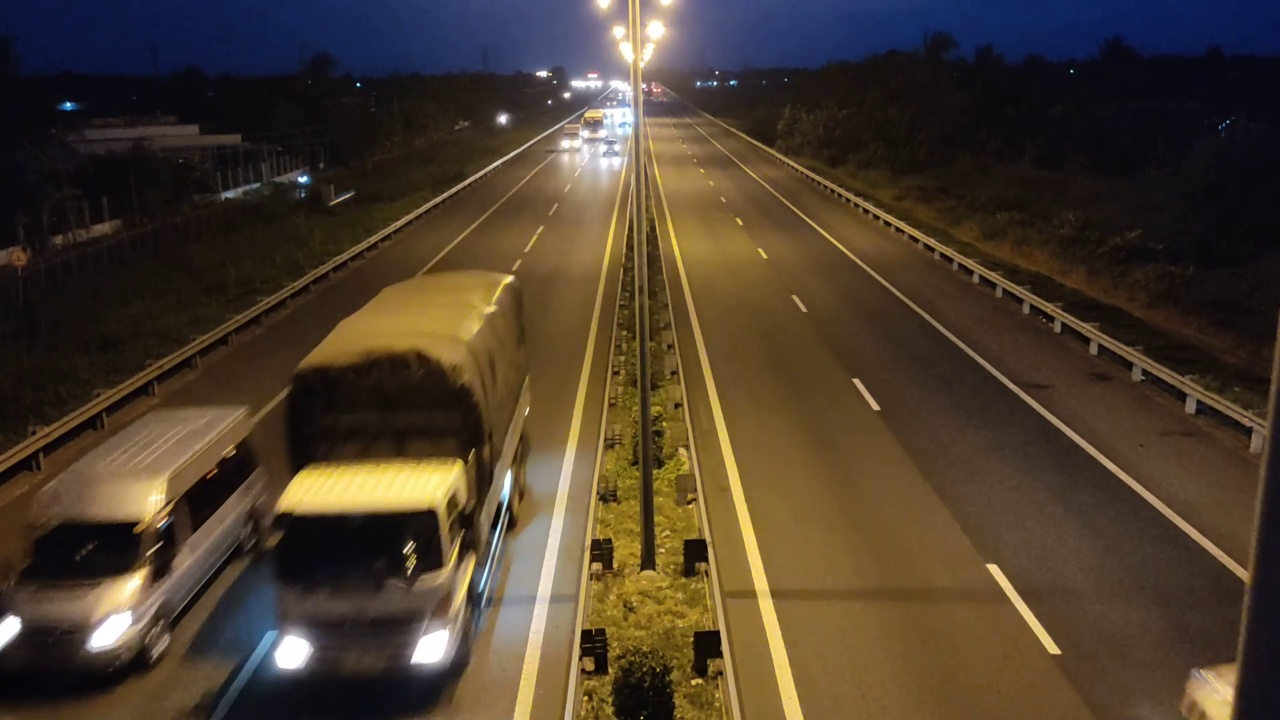car: (1, 399, 275, 684)
truck: (265, 268, 533, 685)
